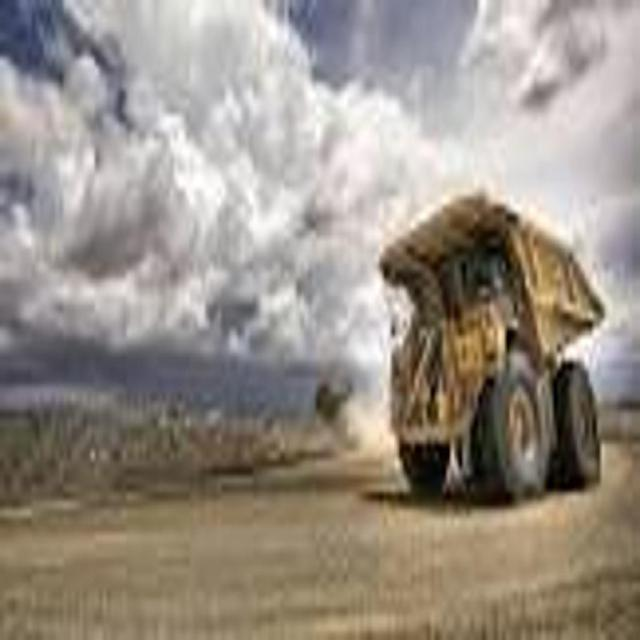dump_truck: (381, 157, 610, 531)
